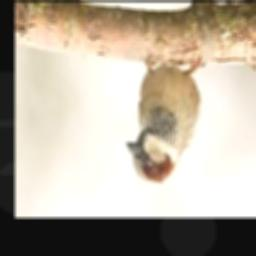Sparrow: (126, 51, 205, 183)
